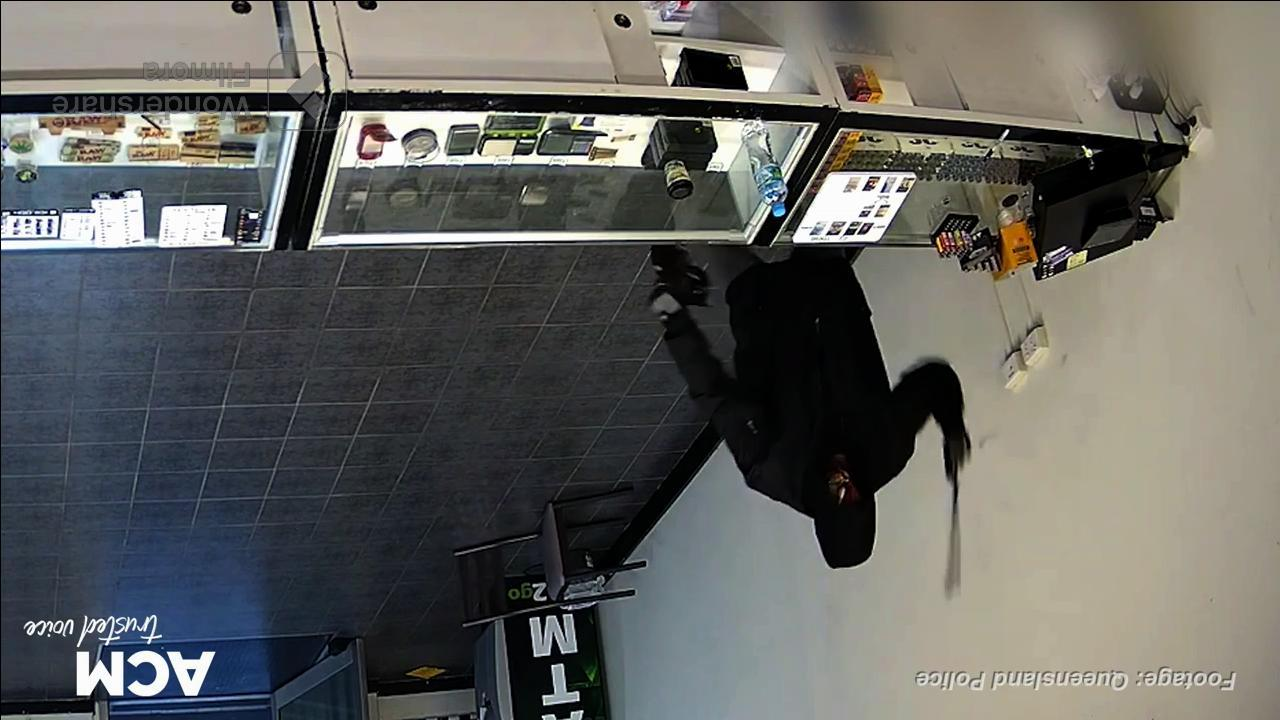melee: (926, 419, 972, 604)
